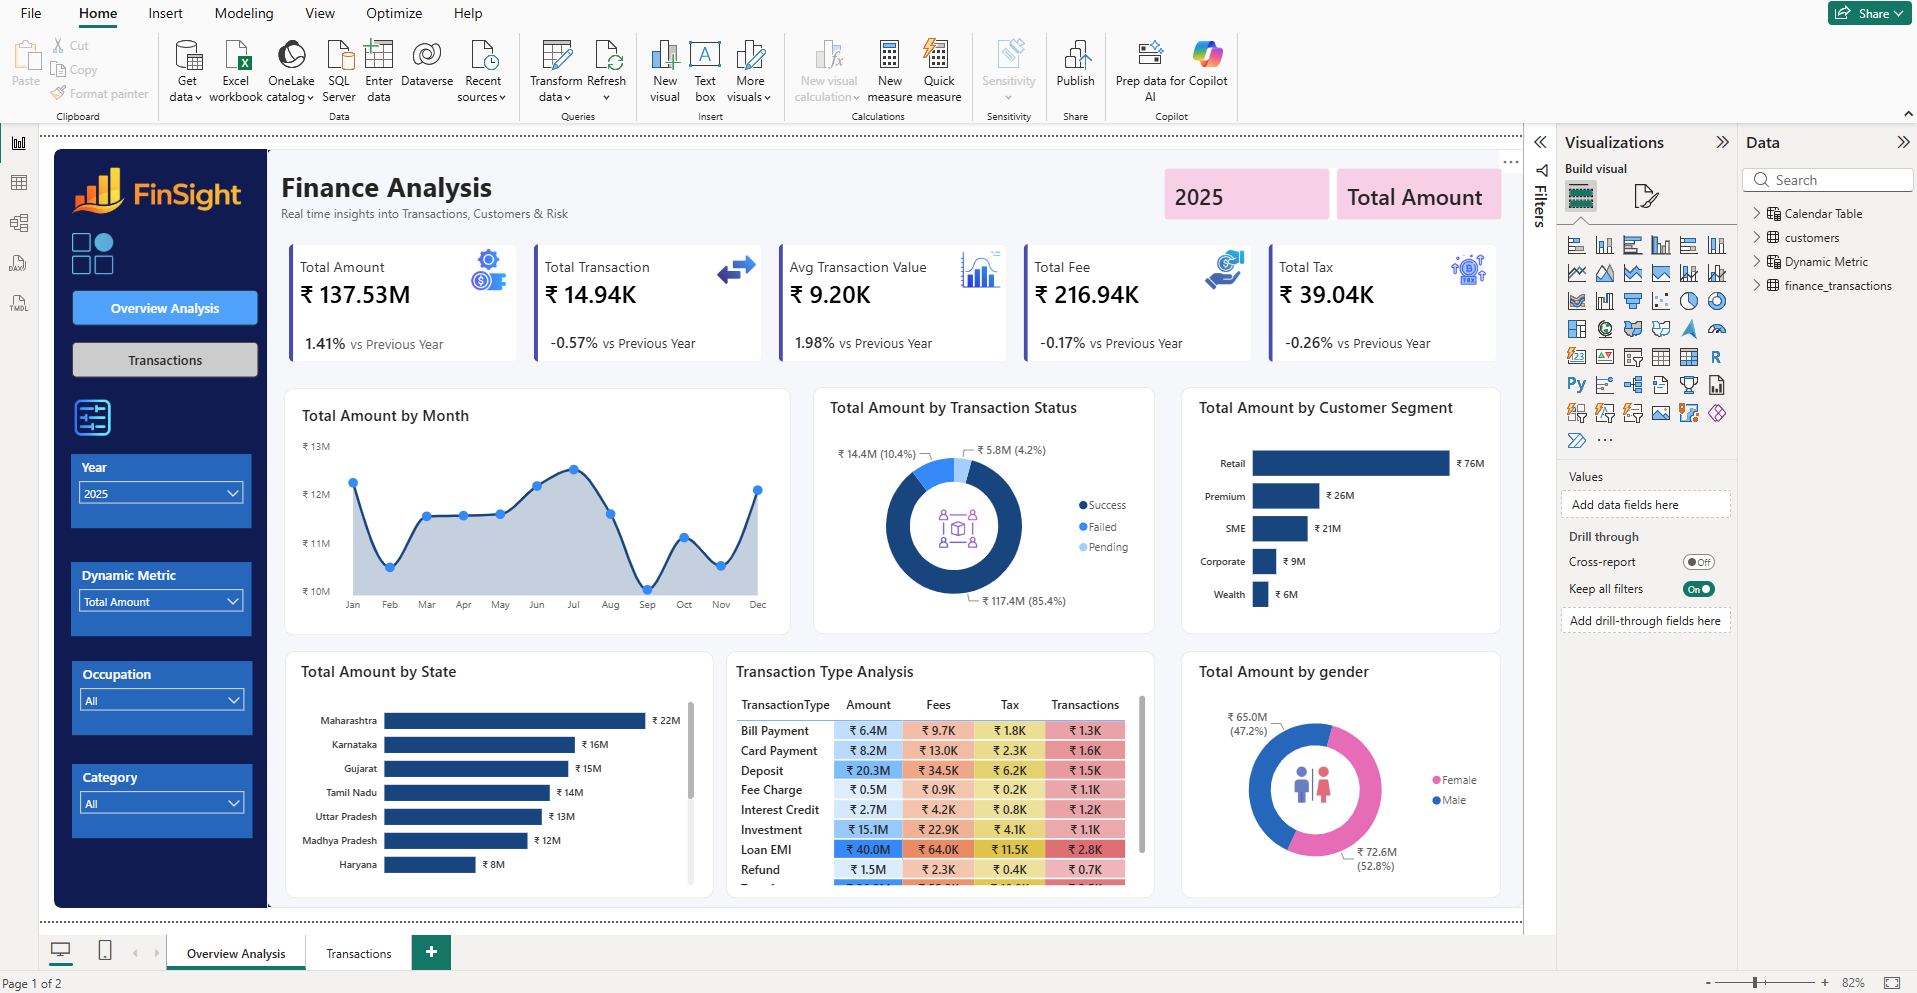

The dashboard page shown, as its layout file describes it:
{"tool":"powerbi","page":{"name":"Overview Analysis","canvas":[1800,950],"ordinal":0},"visuals":[{"type":"shape","box":[18,14.7,279.6,920.6],"z":0},{"type":"shape","box":[276.7,15,1524,920],"z":1000},{"type":"cardVisual","fields":{"Data":["finance_transactions.Dashboard Title"]},"box":[276.3,14.7,392.4,109.6],"z":2000},{"type":"image","box":[31.7,15,227.3,101.4],"z":3000},{"type":"cardVisual","fields":{"Data":["finance_transactions.Total Amount","finance_transactions.Total Transaction","finance_transactions.Average Transaction Value","finance_transactions.Total Fee","finance_transactions.Total Tax"]},"box":[297.6,124.3,1481.5,155],"z":4000},{"type":"slicer","fields":{"Values":["Calendar Table.Year"]},"box":[39.2,384.3,219.1,89.9],"z":5000},{"type":"image","box":[520,135.7,50,50],"z":6000},{"type":"image","box":[820.9,135.7,50,50],"z":7000},{"type":"image","box":[1412.8,135.7,50,50],"z":8000},{"type":"image","box":[1116.8,135.7,50,50],"z":9000},{"type":"image","box":[1708.8,135.7,50,50],"z":10000},{"type":"slicer","fields":{"Values":["Dynamic Metric.Dynamic Metric"]},"box":[39.2,515.1,219.1,89.9],"z":11000},{"type":"shape","box":[297.6,304.1,615,300],"z":12000},{"type":"areaChart","fields":{"Y":["finance_transactions.Total Amount"],"Category":["Calendar Table.Month"]},"box":[314,325.4,580.5,260],"z":13000},{"type":"cardVisual","fields":{"Data":["finance_transactions.Selected Year","Min(Dynamic Metric.Dynamic Title)"]},"box":[1360,33.3,420,73.3],"z":14000},{"type":"shape","box":[938.3,303.3,415,300],"z":15000},{"type":"donutChart","fields":{"Y":["finance_transactions.Total Amount"],"Category":["finance_transactions.transaction_status"]},"box":[955,315,381.7,276.7],"z":16000},{"type":"shape","box":[1385,303.3,388.3,300],"z":17000},{"type":"barChart","fields":{"Y":["finance_transactions.Total Amount"],"Category":["customers.customer_segment"]},"box":[1401.7,315,356.7,276.7],"z":18000},{"type":"shape","box":[298.3,623.3,520,300],"z":19000},{"type":"barChart","fields":{"Y":["finance_transactions.Total Amount"],"Category":["customers.state"]},"box":[313.3,635,486.7,276.7],"z":20000},{"type":"shape","box":[833.3,623.3,520,300],"z":21000},{"type":"tableEx","title":"Transaction Type Analysis","fields":{"Values":["finance_transactions.transaction_type","finance_transactions.Total Amount","finance_transactions.Total Fee","finance_transactions.Total Tax","finance_transactions.Total Transaction"]},"box":[840,635,506.7,276.7],"z":22000},{"type":"shape","box":[1385,623.3,388.3,300],"z":23000},{"type":"donutChart","fields":{"Y":["finance_transactions.Total Amount"],"Category":["customers.gender"]},"box":[1401.7,635,356.7,276.7],"z":24000},{"type":"image","box":[1520,760,50,50],"z":25000},{"type":"image","box":[1086.7,450,55,50],"z":26000},{"type":"slicer","fields":{"Values":["customers.occupation"]},"box":[40,635,219.1,89.9],"z":27000},{"type":"slicer","fields":{"Values":["finance_transactions.merchant_category"]},"box":[40,760,219.1,89.9],"z":28000},{"type":"pageNavigator","box":[40,185,226.7,106.7],"z":29000},{"type":"image","box":[40,116.7,50,50],"z":30000},{"type":"image","box":[40,315,50,50],"z":31000}]}

Visuals, with their boxes on the page's 1800x950 design canvas (x1, y1, x2, y2). These are canvas units, not pixel positions in the 1917x993 screenshot, which may show the page scaled, cropped or inside an application window:
shape: pyautogui.locateOnScreen(18, 15, 298, 935)
shape: pyautogui.locateOnScreen(277, 15, 1801, 935)
cardVisual - finance_transactions.Dashboard Title: pyautogui.locateOnScreen(276, 15, 669, 124)
image: pyautogui.locateOnScreen(32, 15, 259, 116)
cardVisual - finance_transactions.Total Amount x finance_transactions.Total Transaction: pyautogui.locateOnScreen(298, 124, 1779, 279)
slicer - Calendar Table.Year: pyautogui.locateOnScreen(39, 384, 258, 474)
image: pyautogui.locateOnScreen(520, 136, 570, 186)
image: pyautogui.locateOnScreen(821, 136, 871, 186)
image: pyautogui.locateOnScreen(1413, 136, 1463, 186)
image: pyautogui.locateOnScreen(1117, 136, 1167, 186)
image: pyautogui.locateOnScreen(1709, 136, 1759, 186)
slicer - Dynamic Metric.Dynamic Metric: pyautogui.locateOnScreen(39, 515, 258, 605)
shape: pyautogui.locateOnScreen(298, 304, 913, 604)
areaChart - finance_transactions.Total Amount x Calendar Table.Month: pyautogui.locateOnScreen(314, 325, 894, 585)
cardVisual - finance_transactions.Selected Year x Min(Dynamic Metric.Dynamic Title): pyautogui.locateOnScreen(1360, 33, 1780, 107)
shape: pyautogui.locateOnScreen(938, 303, 1353, 603)
donutChart - finance_transactions.Total Amount x finance_transactions.transaction_status: pyautogui.locateOnScreen(955, 315, 1337, 592)
shape: pyautogui.locateOnScreen(1385, 303, 1773, 603)
barChart - finance_transactions.Total Amount x customers.customer_segment: pyautogui.locateOnScreen(1402, 315, 1758, 592)
shape: pyautogui.locateOnScreen(298, 623, 818, 923)
barChart - finance_transactions.Total Amount x customers.state: pyautogui.locateOnScreen(313, 635, 800, 912)
shape: pyautogui.locateOnScreen(833, 623, 1353, 923)
"Transaction Type Analysis" tableEx: pyautogui.locateOnScreen(840, 635, 1347, 912)
shape: pyautogui.locateOnScreen(1385, 623, 1773, 923)
donutChart - finance_transactions.Total Amount x customers.gender: pyautogui.locateOnScreen(1402, 635, 1758, 912)
image: pyautogui.locateOnScreen(1520, 760, 1570, 810)
image: pyautogui.locateOnScreen(1087, 450, 1142, 500)
slicer - customers.occupation: pyautogui.locateOnScreen(40, 635, 259, 725)
slicer - finance_transactions.merchant_category: pyautogui.locateOnScreen(40, 760, 259, 850)
pageNavigator: pyautogui.locateOnScreen(40, 185, 267, 292)
image: pyautogui.locateOnScreen(40, 117, 90, 167)
image: pyautogui.locateOnScreen(40, 315, 90, 365)
